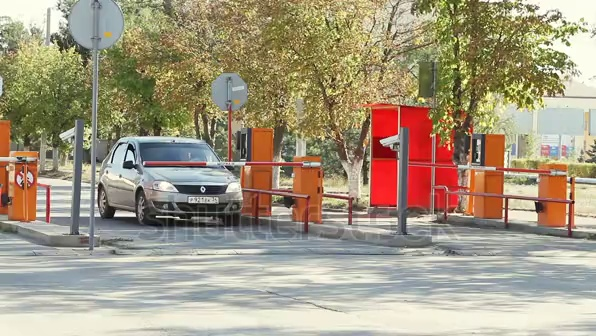licenseplate: (188, 195, 228, 208)
